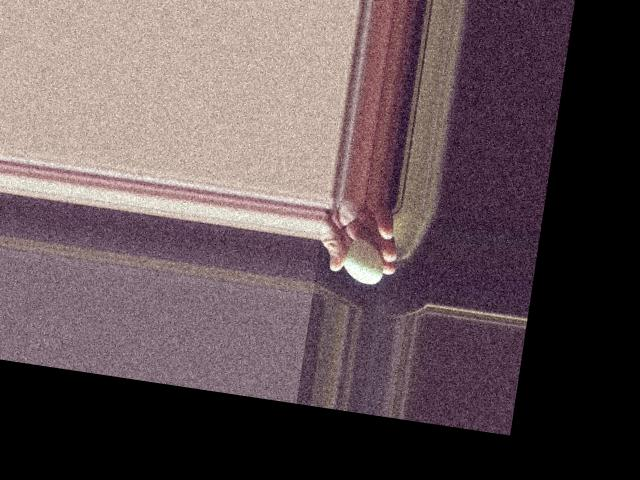egg: (340, 238, 386, 285)
